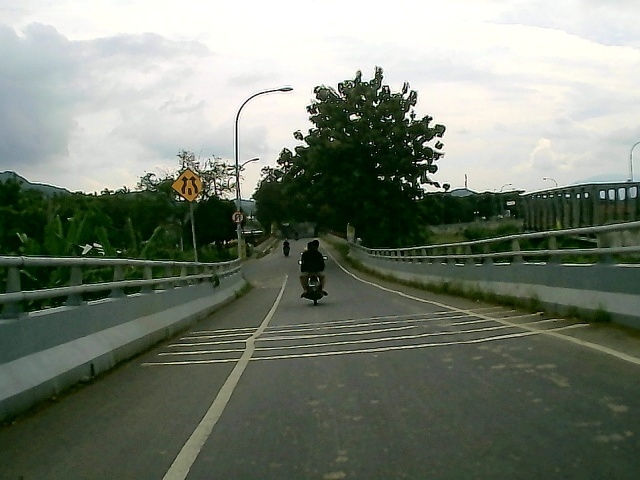Akhir bangunan pemisah satu arah: (171, 169, 206, 204)
Dilarang berbalik arah: (230, 211, 245, 225)
